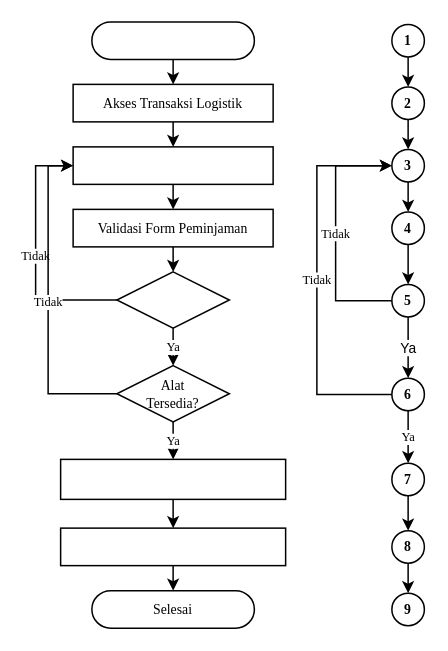
The diagram is 448 pixels wide and 651 high, and some of its shapes have lost their labels. Here are the shapes that lost their labels. From the top down, the box of each, then its label:
(90, 20, 254, 59): Mulai
(72, 146, 273, 184): Input Peminjaman Alat
(116, 270, 230, 328): Form Valid?
(59, 458, 286, 499): Simpan Peminjaman & Potong Stok
(59, 527, 286, 566): Menampilkan Pesan Berhasil
